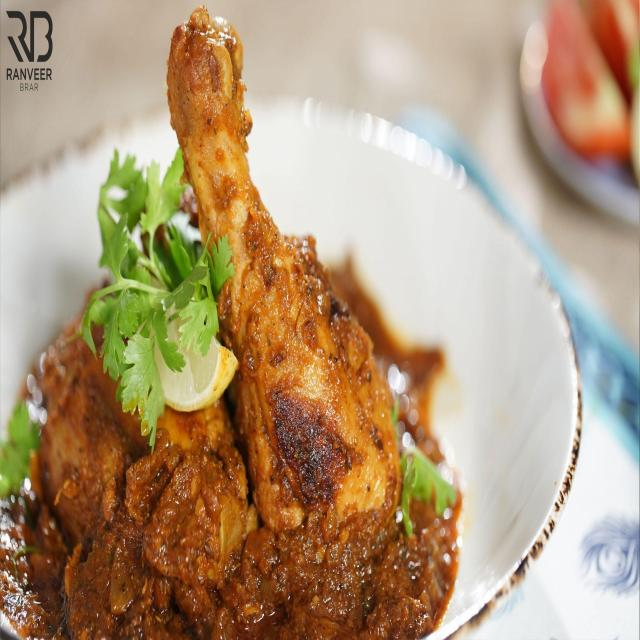chicken: (29, 312, 428, 623), (162, 32, 402, 539)
